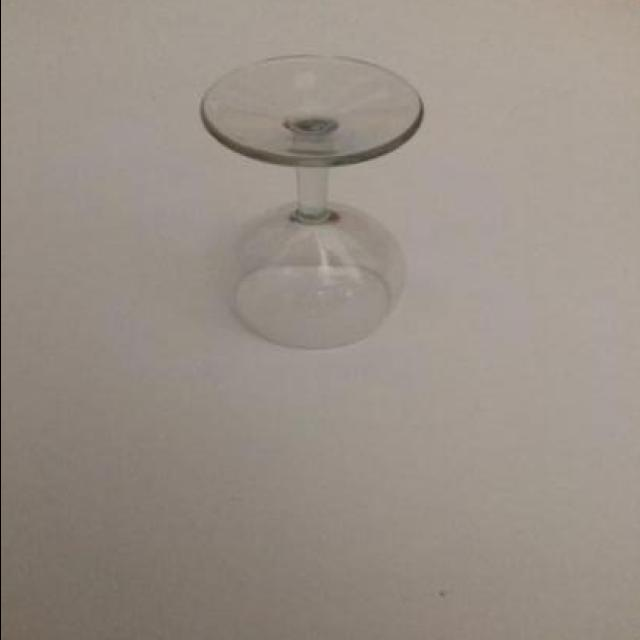kaca: (200, 54, 423, 348)
